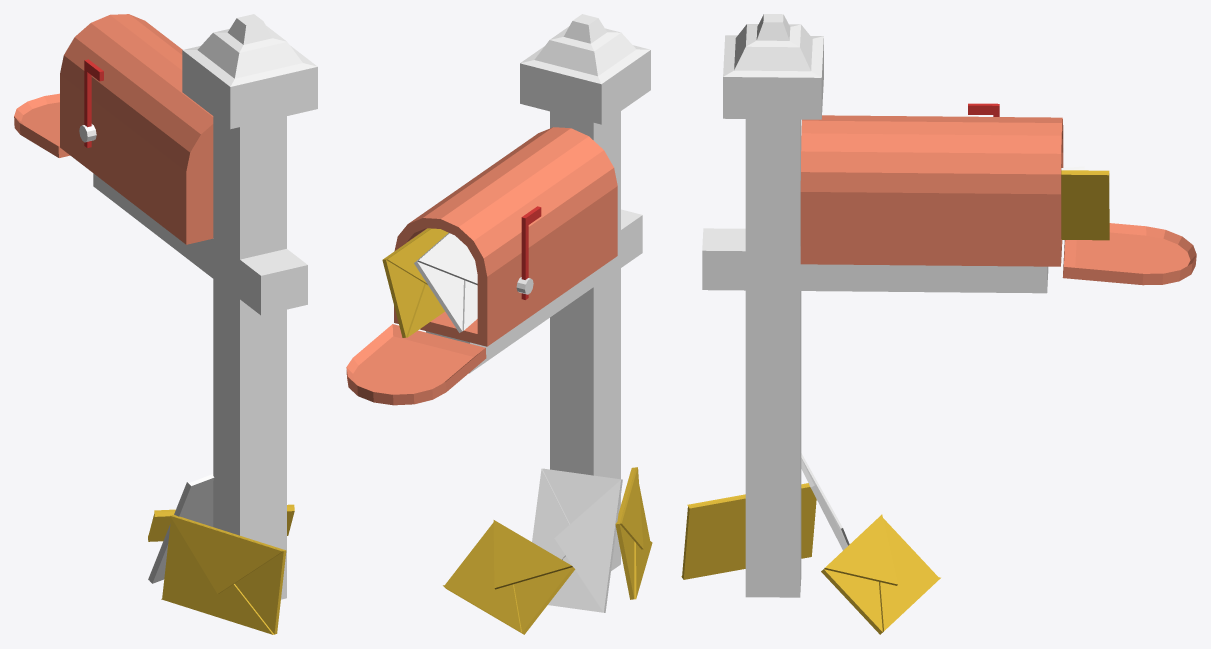
Rendered from contact.glb.
3 views of the same model, side by side, from view 1: azimuth 30°, elevation 25°; view 2: azimuth 150°, elevation 25°; view 3: azimuth 270°, elevation 25° (orthographic). The views are drawn at different scales.
Parts seen in each view (by area): view 1: Stand, Box, Cube.005, Door, Cube.003, Cube.004, Cube; view 2: Stand, Box, Cube.003, Cube.004, Door, Cube.002, Cube.001, Cube.005, Cube; view 3: Stand, Box, Cube.004, Door, Cube.005, Cube.001, Cube.003.
Part boxes in pixels (box(x1,y1,x2,y2)): Stand: box(93, 14, 317, 599); Box: box(60, 14, 213, 244); Cube.005: box(161, 515, 286, 634); Door: box(14, 93, 69, 157); Cube.003: box(148, 474, 214, 583); Cube.004: box(148, 504, 294, 541); Cube: box(84, 59, 103, 147); Stand: box(426, 14, 650, 570); Box: box(394, 127, 617, 346); Cube.003: box(532, 468, 622, 612); Cube.004: box(443, 520, 575, 634); Door: box(346, 324, 486, 405); Cube.002: box(414, 233, 477, 332); Cube.001: box(382, 228, 448, 337); Cube.005: box(615, 467, 652, 599); Cube: box(521, 206, 541, 299); Stand: box(702, 14, 1048, 597); Box: box(800, 115, 1063, 266); Cube.004: box(821, 514, 940, 634); Door: box(1062, 223, 1196, 285); Cube.005: box(681, 483, 816, 579); Cube.001: box(1061, 170, 1109, 240); Cube.003: box(801, 453, 849, 550).
Size of what is drawn, in the model's own units: 0.5806 by 1.95 by 1.59.
